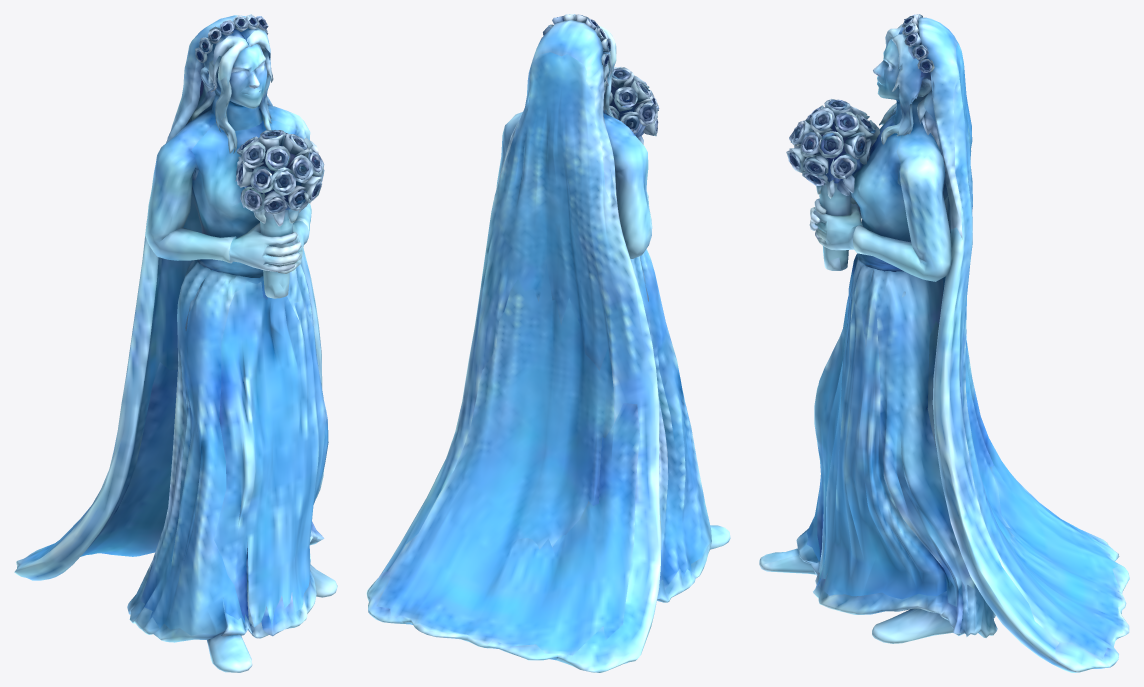
The model's file is MZ4250 - Ghost Female_2025.glb.
The picture shows the model from 3 angles, left to right: view 1: azimuth 30°, elevation 25°; view 2: azimuth 150°, elevation 25°; view 3: azimuth 270°, elevation 25°; orthographic projection. The views are drawn at different scales.
Parts seen in each view (by area): view 1: Ghost Female 2025.001; view 2: Ghost Female 2025.001; view 3: Ghost Female 2025.001.
Part boxes in pixels (x1=…): Ghost Female 2025.001: x1=14, y1=14, x2=337, y2=672; Ghost Female 2025.001: x1=366, y1=14, x2=730, y2=672; Ghost Female 2025.001: x1=759, y1=14, x2=1129, y2=672.
Size of the model in its own units: 18.44 by 36.65 by 20.54.
Materials: 1 (1 with a texture image).
